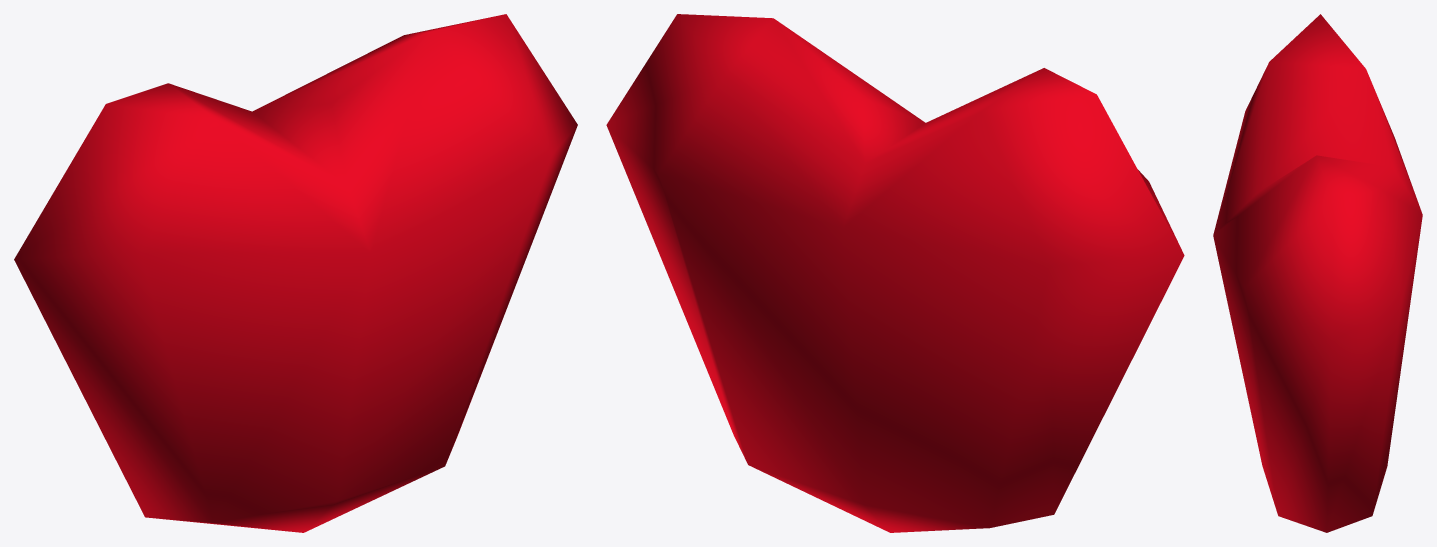
The model's file is deathToken.glb.
3 views of the same model, side by side, from view 1: azimuth 30°, elevation 25°; view 2: azimuth 150°, elevation 25°; view 3: azimuth 270°, elevation 25° (orthographic). The views are drawn at different scales.
Visible parts, largest first — view 1: Cube; view 2: Cube; view 3: Cube.
Part boxes in pixels (x1,y1,x2,y2): Cube: (14, 14, 577, 532); Cube: (606, 14, 1184, 532); Cube: (1213, 14, 1422, 532).
Size of the model in its own units: 0.33 by 0.2667 by 0.1209.
